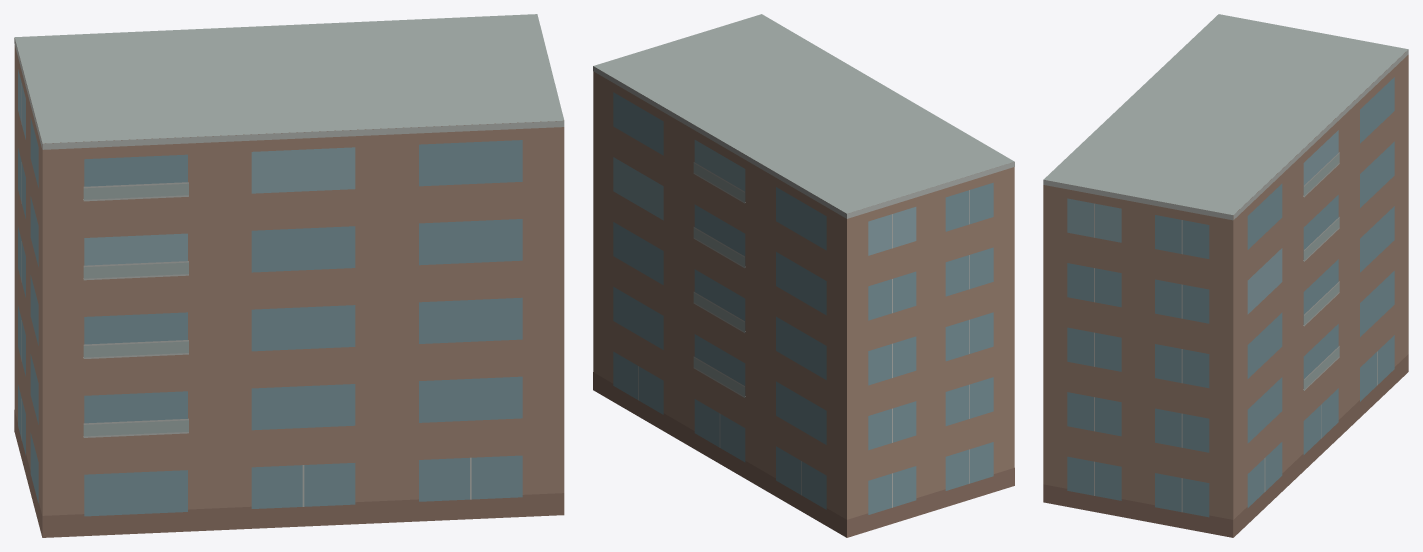
The model's file is survey-upis-32638856.glb.
3 views of the same model, side by side, from view 1: azimuth 30°, elevation 25°; view 2: azimuth 150°, elevation 25°; view 3: azimuth 270°, elevation 25° (orthographic). The views are drawn at different scales.
Parts seen in each view (by area): view 1: survey-upis-32638856.tmp; view 2: survey-upis-32638856.tmp; view 3: survey-upis-32638856.tmp.
Part boxes in pixels (x1,y1,x2,y2): survey-upis-32638856.tmp: (14,14,564,537); survey-upis-32638856.tmp: (593,14,1014,537); survey-upis-32638856.tmp: (1043,14,1408,537).
Bounding box in the file's own units: 20.41 × 15.25 × 15.65.
